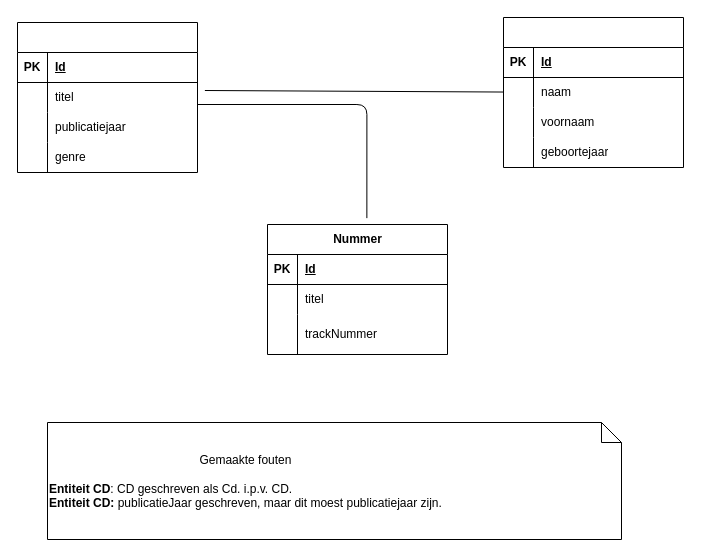
Image size: 701x557. Some labels were removed from this diagram. The shapes that lost their labels are listed below. From the top down, each one's box as (x1, y1, x2, y2) in pixels, then its label:
(16, 22, 198, 172): CD
(502, 16, 684, 168): Artiest
